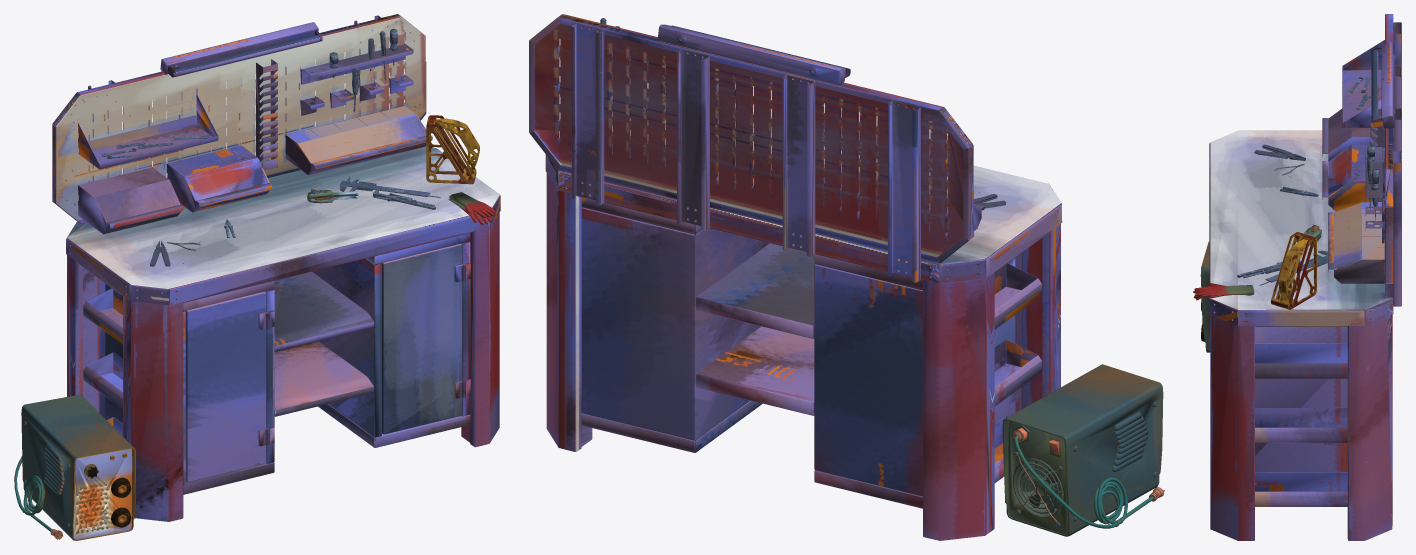
File: LO_workbench1.glb
The picture shows the model from 3 angles, left to right: view 1: azimuth 30°, elevation 25°; view 2: azimuth 150°, elevation 25°; view 3: azimuth 270°, elevation 25°; orthographic projection. The views are drawn at different scales.
Visible parts, largest first — view 1: Table, BOX_LOW, base_c, glove_right, Verniew; view 2: Table, BOX_LOW; view 3: Table, base_c, BOX_LOW, glove_right, Plane.025, Verniew, Pipe_wrench_Low.
Part boxes in pixels (x1,y1,x2,y2): Table: [52, 14, 500, 521]; BOX_LOW: [14, 394, 135, 540]; base_c: [426, 115, 479, 184]; glove_right: [448, 192, 495, 224]; Verniew: [339, 177, 440, 197]; Table: [529, 14, 1062, 540]; BOX_LOW: [1002, 364, 1164, 536]; Table: [1209, 14, 1401, 540]; base_c: [1271, 232, 1316, 309]; BOX_LOW: [1200, 242, 1210, 352]; glove_right: [1193, 283, 1254, 300]; Plane.025: [1254, 144, 1305, 160]; Verniew: [1259, 250, 1327, 285]; Pipe_wrench_Low: [1237, 261, 1300, 278].
Size of the model in its own units: 2.34 by 1.85 by 0.9376.
10 materials, 10 textured.
